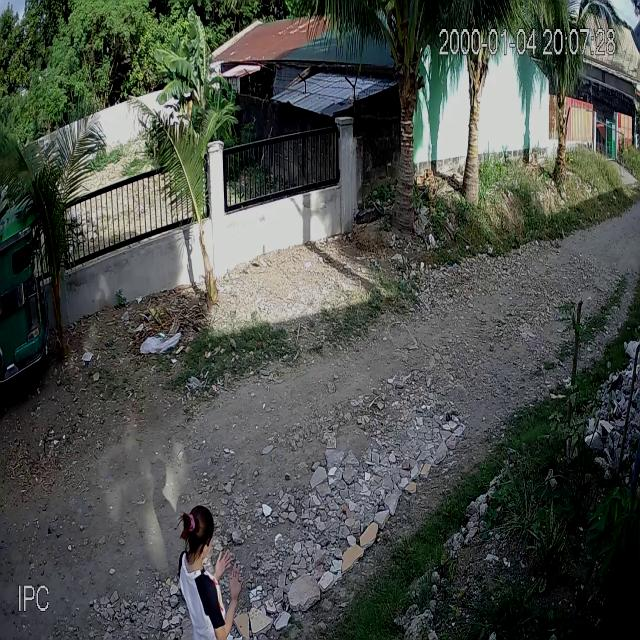standing: (171, 503, 245, 640)
